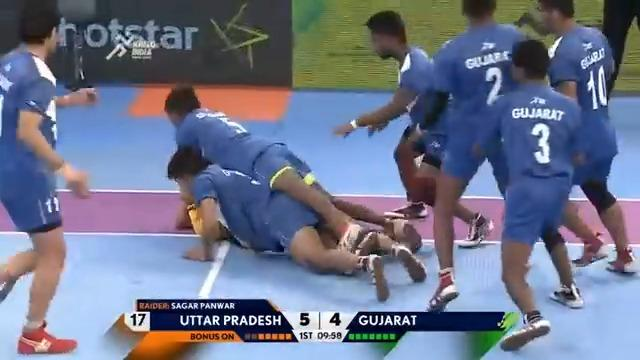Player: (162, 83, 423, 256), (332, 9, 493, 248), (0, 3, 98, 355), (526, 0, 637, 274)
referee: (600, 0, 639, 104)
